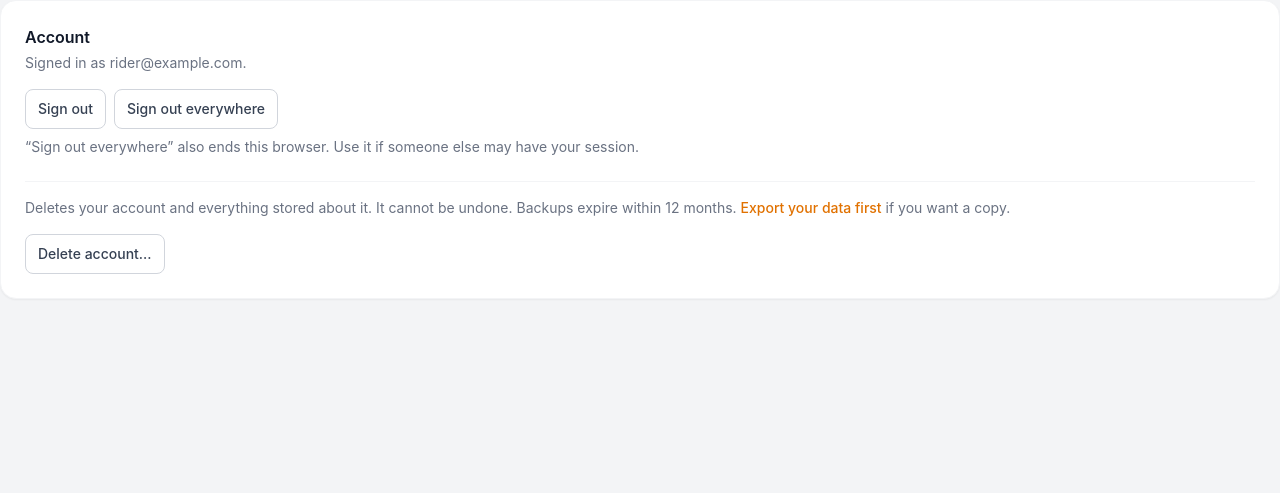
Scenario: AccountCard (ai-trainer-ops#310, #312) › keeps the session when the password is wrong
Click the button "Sign out everywhere" at (196, 109), box [114,89,278,129]
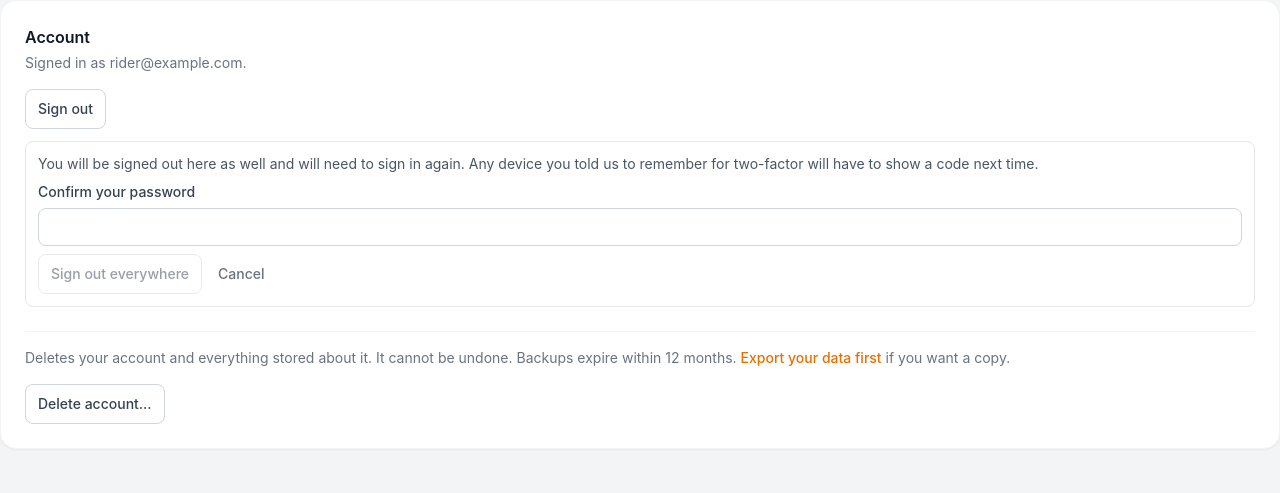
Type "wrong" into the password field labelled "Confirm your password" at (640, 227), box [38,208,1242,246]
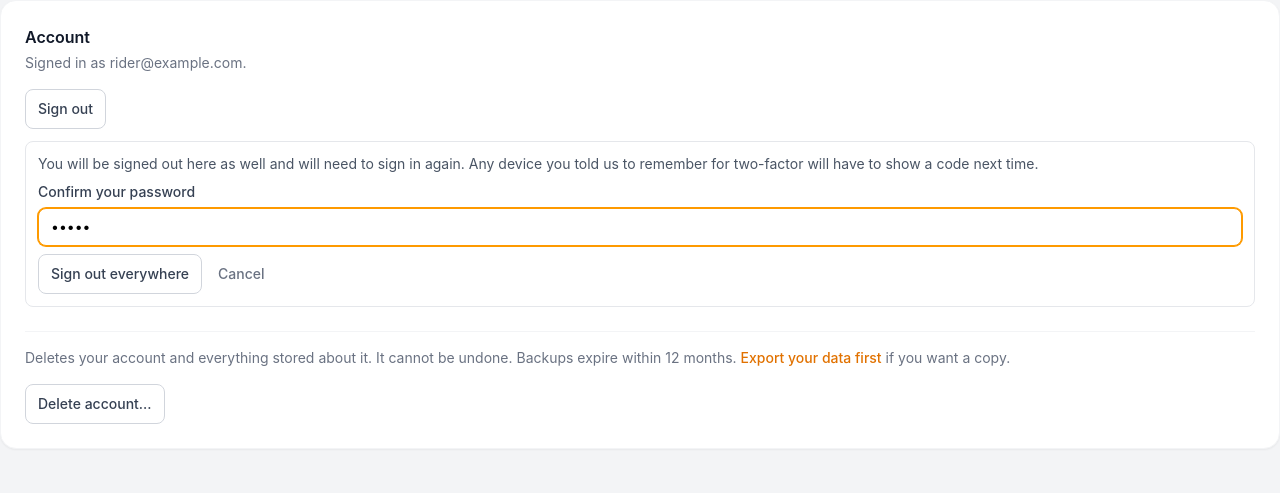
Click the button "Sign out everywhere" at (120, 274), box [38,254,202,294]
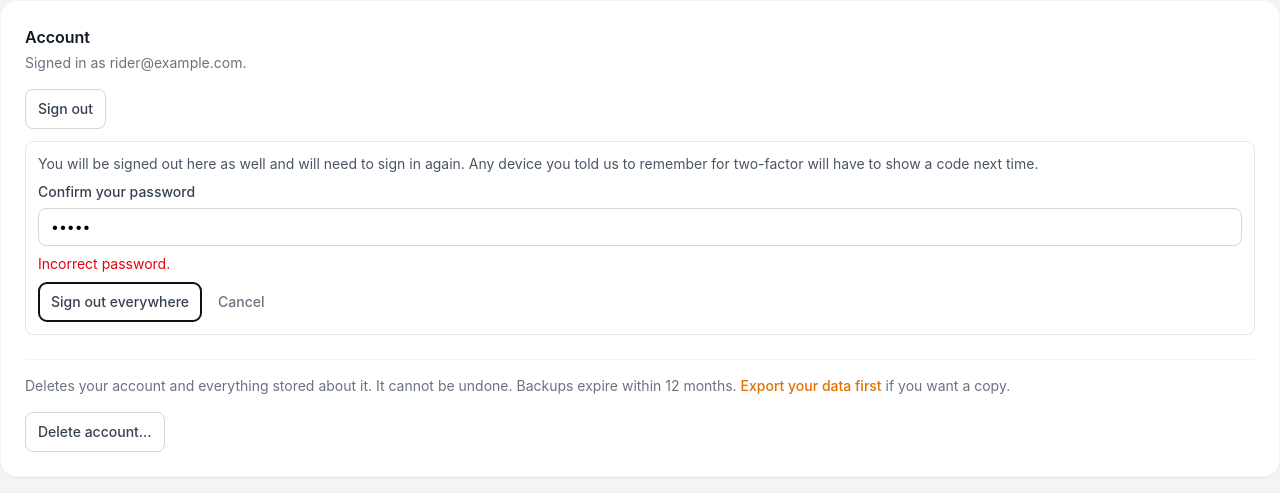
Result: the text "Incorrect password." is shown at [38,255,170,272]
